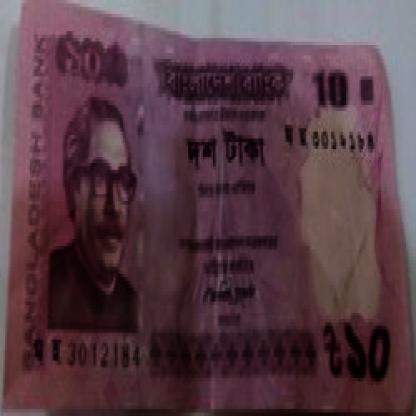Ten Taka: (57, 31, 116, 94), (344, 312, 394, 385), (310, 62, 351, 122)
